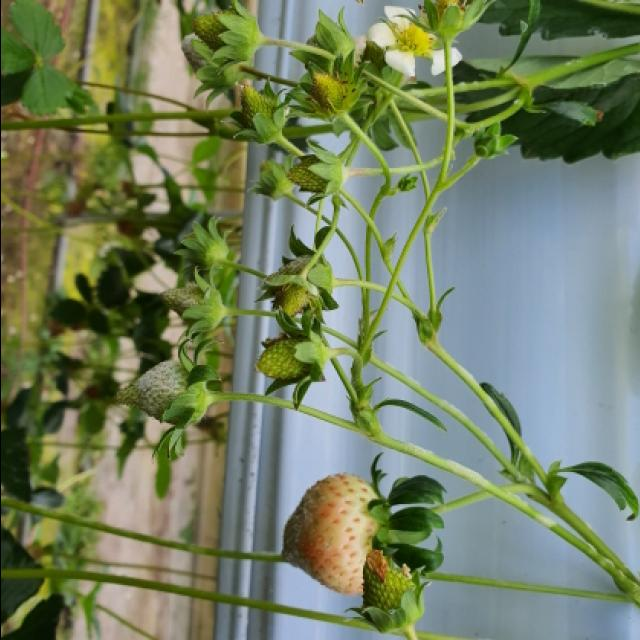Powdery Mildew Fruit: (115, 359, 209, 429), (160, 285, 224, 333), (178, 35, 238, 86)
